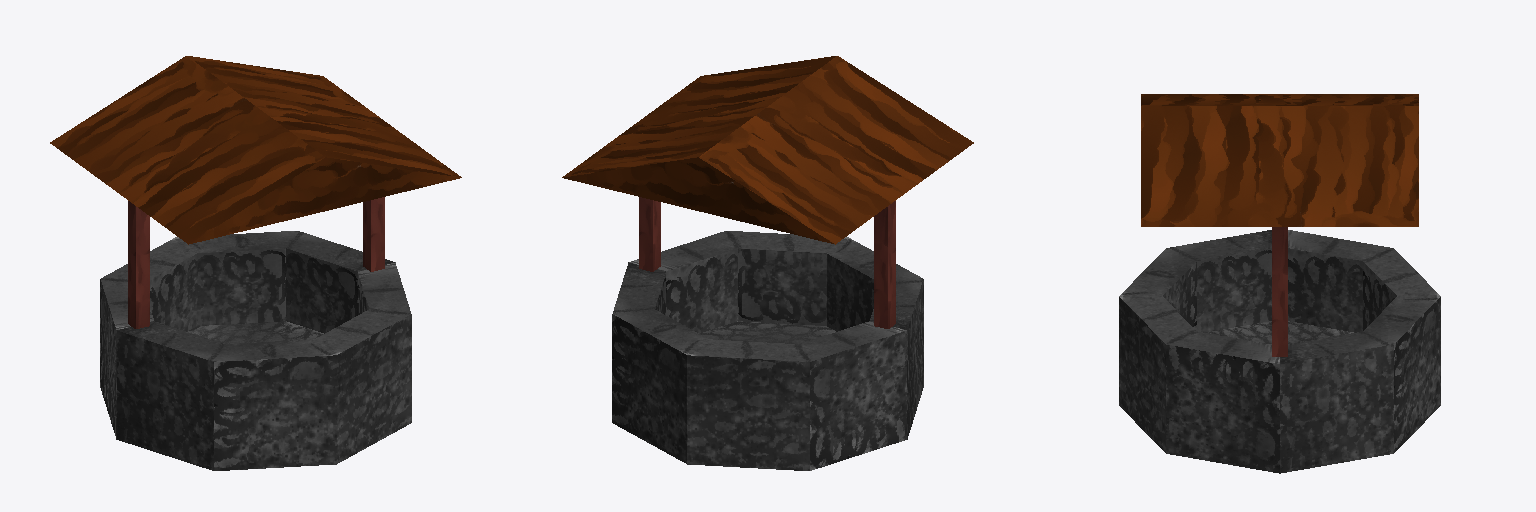
3 views of the same model, side by side, from view 1: azimuth 30°, elevation 25°; view 2: azimuth 150°, elevation 25°; view 3: azimuth 270°, elevation 25° (orthographic).
Visible parts, largest first — view 1: Cube.001_Cube.003; view 2: Cube.001_Cube.003; view 3: Cube.001_Cube.003.
Boxes of the visible parts, x1=… form: Cube.001_Cube.003: x1=50, y1=56, x2=461, y2=470; Cube.001_Cube.003: x1=562, y1=56, x2=973, y2=470; Cube.001_Cube.003: x1=1119, y1=94, x2=1440, y2=473.
Bounding box in the file's own units: 0.9868 × 1.01 × 0.9868.
1 materials, 1 textured.